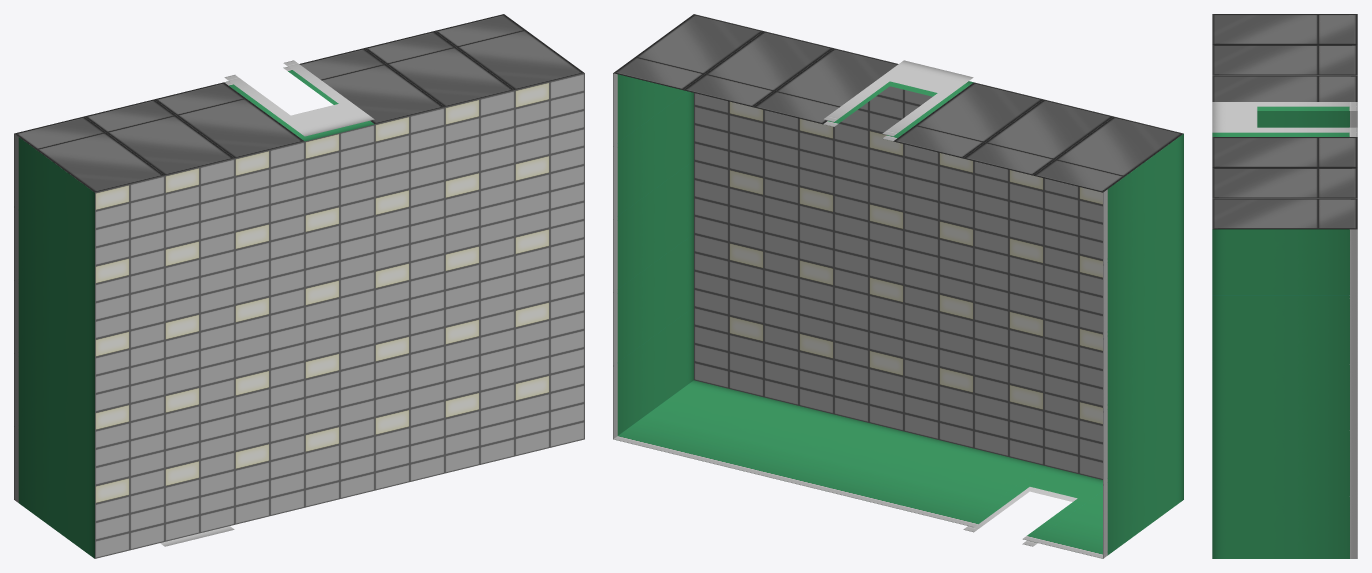
File: reception.obj
3 renders of one model, left to right at view 1: azimuth 30°, elevation 25°; view 2: azimuth 150°, elevation 25°; view 3: azimuth 270°, elevation 25°, orthographic. The views are drawn at different scales.
Visible parts, largest first — view 1: reception; view 2: reception; view 3: reception.
Part boxes in pixels (x1=…): reception: x1=14, y1=14, x2=584, y2=558; reception: x1=613, y1=14, x2=1183, y2=558; reception: x1=1212, y1=14, x2=1357, y2=558.
Size of the model in its own units: 1050 by 770 by 300.
